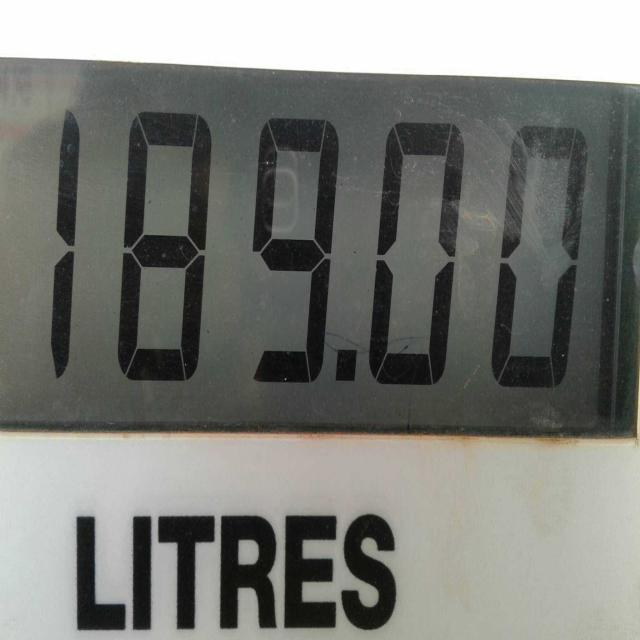.: (327, 330, 365, 403)
0: (489, 116, 603, 400), (364, 110, 472, 406)
1: (35, 101, 100, 396)
8: (112, 102, 225, 402)
9: (242, 114, 344, 412)
